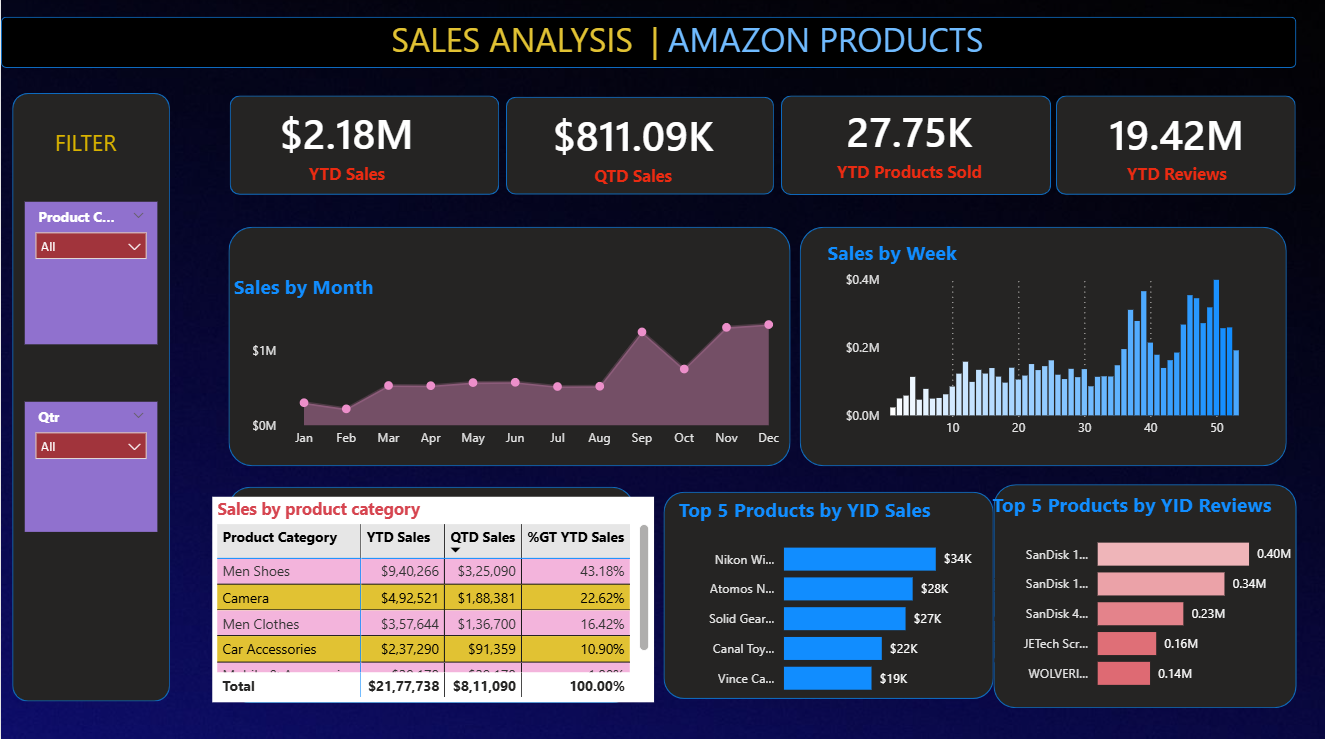

What the dashboard file says about the page in this screenshot:
{"tool":"powerbi","page":{"name":"Page 1","canvas":[1280,720],"ordinal":0},"visuals":[{"type":"shape","box":[0,17.8,1250.1,49.4],"z":0},{"type":"textbox","box":[371.6,13.3,608,54.3],"z":1000},{"type":"shape","box":[11,91.9,152.3,587.3],"z":2000},{"type":"shape","box":[220.5,94.5,260.2,95.8],"z":3000},{"type":"card","fields":{"Values":["Amazon_Data.YTD Sales"]},"box":[204,91.7,260.2,98.6],"z":4000},{"type":"shape","box":[1018.7,94.5,231.4,95.8],"z":5000},{"type":"shape","box":[752.4,94.7,260.7,96.1],"z":6000},{"type":"shape","box":[487.1,95.8,258.8,94.5],"z":7000},{"type":"card","fields":{"Values":["Amazon_Data.QTD Sales"]},"box":[480.6,98.6,260.2,87.6],"z":8000},{"type":"card","fields":{"Values":["Amazon_Data.YTD Products Sold"]},"box":[746.3,95.8,260.2,87.6],"z":9000},{"type":"card","fields":{"Values":["Amazon_Data.YTD Reviews"]},"box":[1005.1,97.2,260.2,87.6],"z":10000},{"type":"shape","box":[220,221.2,542.5,231.2],"z":11000},{"type":"areaChart","title":"Sales by Month","fields":{"Category":["Date Table.Month Name"],"Y":["Sum(Amazon_Data.Price(Dollar))"]},"box":[219.6,265.4,542.9,187],"z":12000},{"type":"shape","box":[771.2,221.2,470,231.2],"z":13000},{"type":"columnChart","title":"Sales by Week","fields":{"Category":["Date Table.Week"],"Y":["Sum(Amazon_Data.Price(Dollar))"]},"box":[792.5,232.5,425,210],"z":14000},{"type":"shape","box":[220,471.2,391.2,208.8],"z":15000},{"type":"pivotTable","title":"Sales by product category","fields":{"Rows":["Amazon_Data.Product Category"],"Values":["Amazon_Data.YTD Sales1","Amazon_Data.QTD Sales","Amazon_Data.YTD Sales"]},"box":[203.8,481.2,426.2,198.8],"z":16000},{"type":"shape","box":[640,476.2,318.8,200],"z":17000},{"type":"shape","box":[957.5,468.8,292.5,216.2],"z":18000},{"type":"clusteredBarChart","title":"Top 5 Products by YID Sales","fields":{"Category":["Amazon_Data.Product Description"],"Y":["Amazon_Data.YTD Sales"]},"box":[648.8,481.2,303.8,203.8],"z":19000},{"type":"clusteredBarChart","title":"Top 5 Products by YID Reviews","fields":{"Category":["Amazon_Data.Product Description"],"Y":["Amazon_Data.YTD Reviews"]},"box":[951.9,476.5,304,203.9],"z":20000},{"type":"slicer","fields":{"Values":["Date Table.Qtr"]},"box":[22.9,389.7,127.9,125.5],"z":21000},{"type":"slicer","fields":{"Values":["Amazon_Data.Product Category"]},"box":[22.9,196.6,127.9,137.5],"z":22000},{"type":"textbox","box":[47.1,119.4,78.4,41],"z":22002}]}

Visuals, with their boxes in screenshot pixels (x1, y1, x2, y2), scaled from the page's 1280x720 canvas onto the 1325x739 screenshot:
shape: [left=0, top=18, right=1294, bottom=69]
textbox: [left=385, top=14, right=1014, bottom=69]
shape: [left=11, top=94, right=169, bottom=697]
shape: [left=228, top=97, right=498, bottom=195]
card - Amazon_Data.YTD Sales: [left=211, top=94, right=481, bottom=195]
shape: [left=1055, top=97, right=1294, bottom=195]
shape: [left=779, top=97, right=1049, bottom=196]
shape: [left=504, top=98, right=772, bottom=195]
card - Amazon_Data.QTD Sales: [left=497, top=101, right=767, bottom=191]
card - Amazon_Data.YTD Products Sold: [left=773, top=98, right=1042, bottom=188]
card - Amazon_Data.YTD Reviews: [left=1040, top=100, right=1310, bottom=190]
shape: [left=228, top=227, right=789, bottom=464]
"Sales by Month" areaChart: [left=227, top=272, right=789, bottom=464]
shape: [left=798, top=227, right=1285, bottom=464]
"Sales by Week" columnChart: [left=820, top=239, right=1260, bottom=454]
shape: [left=228, top=484, right=633, bottom=698]
"Sales by product category" pivotTable: [left=211, top=494, right=652, bottom=698]
shape: [left=662, top=489, right=993, bottom=694]
shape: [left=991, top=481, right=1294, bottom=703]
"Top 5 Products by YID Sales" clusteredBarChart: [left=672, top=494, right=986, bottom=703]
"Top 5 Products by YID Reviews" clusteredBarChart: [left=985, top=489, right=1300, bottom=698]
slicer - Date Table.Qtr: [left=24, top=400, right=156, bottom=529]
slicer - Amazon_Data.Product Category: [left=24, top=202, right=156, bottom=343]
textbox: [left=49, top=123, right=130, bottom=165]
